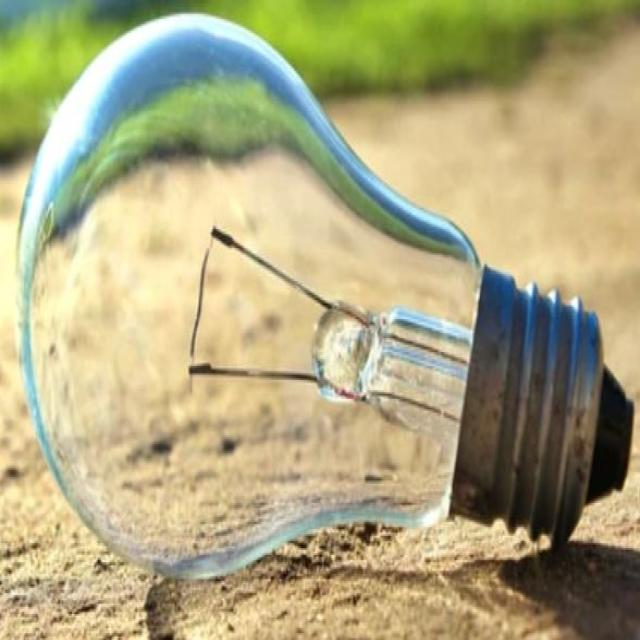electronic: (14, 10, 634, 583), (310, 302, 380, 404)
